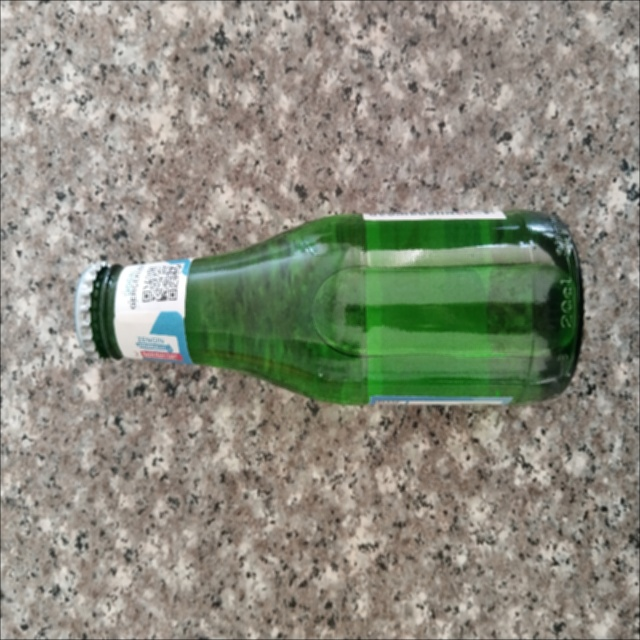kizilay_maden_suyu: (75, 210, 582, 404)
